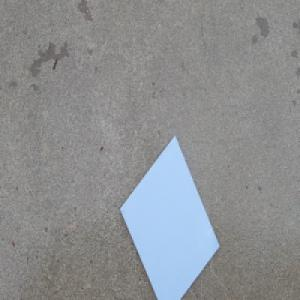PaintChip: (119, 132, 221, 300)
